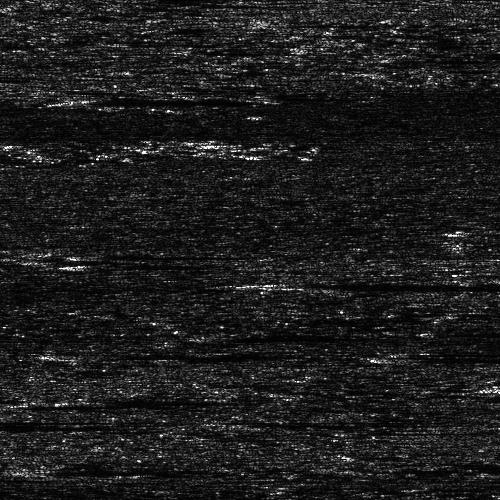object: (0, 349, 124, 360), (215, 280, 340, 289), (0, 463, 81, 476), (36, 94, 129, 103), (0, 398, 81, 407), (187, 330, 260, 339), (360, 352, 423, 361), (62, 252, 115, 257), (78, 264, 109, 269), (485, 385, 500, 390)
shadow: (62, 349, 291, 360), (278, 280, 500, 289), (223, 330, 404, 339), (35, 398, 205, 407), (39, 463, 156, 476), (83, 94, 249, 103), (392, 352, 500, 361), (0, 420, 99, 429), (89, 252, 203, 257), (94, 264, 152, 269)
